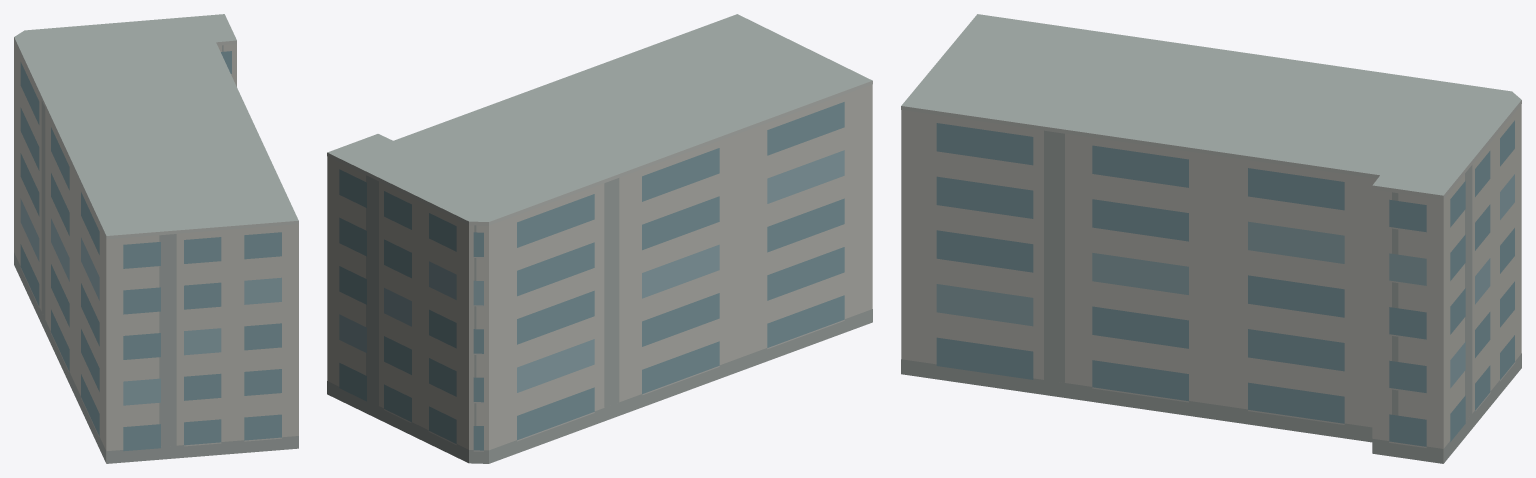
File: survey-upis-32703331.glb
The picture shows the model from 3 angles, left to right: view 1: azimuth 30°, elevation 25°; view 2: azimuth 150°, elevation 25°; view 3: azimuth 270°, elevation 25°; orthographic projection. The views are drawn at different scales.
Parts seen in each view (by area): view 1: survey-upis-32703331.tmp; view 2: survey-upis-32703331.tmp; view 3: survey-upis-32703331.tmp.
Boxes of the visible parts, x1=… form: survey-upis-32703331.tmp: x1=14, y1=14, x2=298, y2=463; survey-upis-32703331.tmp: x1=327, y1=14, x2=872, y2=463; survey-upis-32703331.tmp: x1=901, y1=14, x2=1521, y2=463.
Bounding box in the file's own units: 23.24 × 16 × 33.56.
